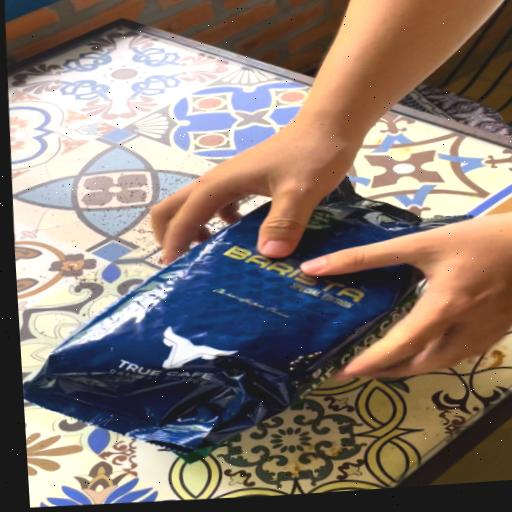cafe_hat: (23, 179, 471, 462)
